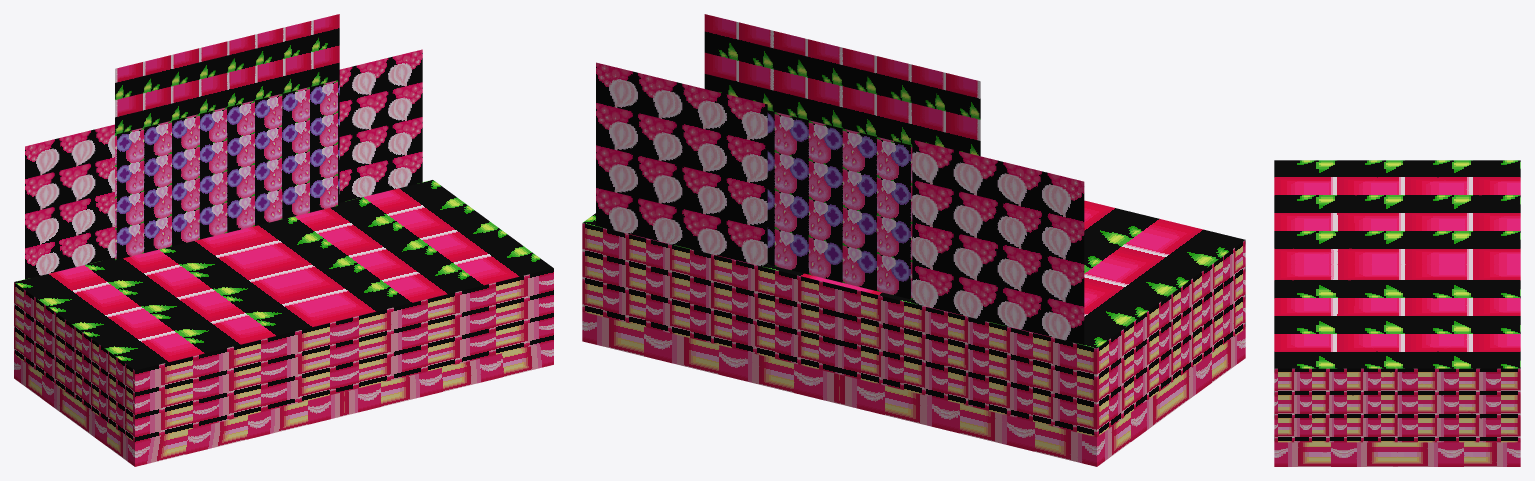
Rendered from 3752dl_berry.gltf.
3 renders of one model, left to right at view 1: azimuth 30°, elevation 25°; view 2: azimuth 150°, elevation 25°; view 3: azimuth 270°, elevation 25°, orthographic. The views are drawn at different scales.
Parts seen in each view (by area): view 1: 3752dl_berry; view 2: 3752dl_berry; view 3: 3752dl_berry.
Part boxes in pixels (x1,y1,x2,y2): 3752dl_berry: [14, 14, 553, 466]; 3752dl_berry: [582, 14, 1245, 466]; 3752dl_berry: [1274, 160, 1520, 466].
Size of the model in its own units: 2 by 1.31 by 1.
4 materials, 4 textured.
